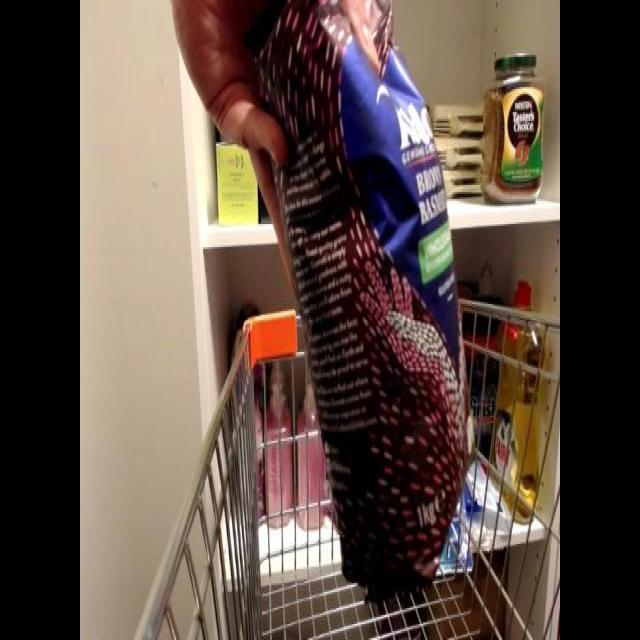Tida: (255, 4, 470, 590)
